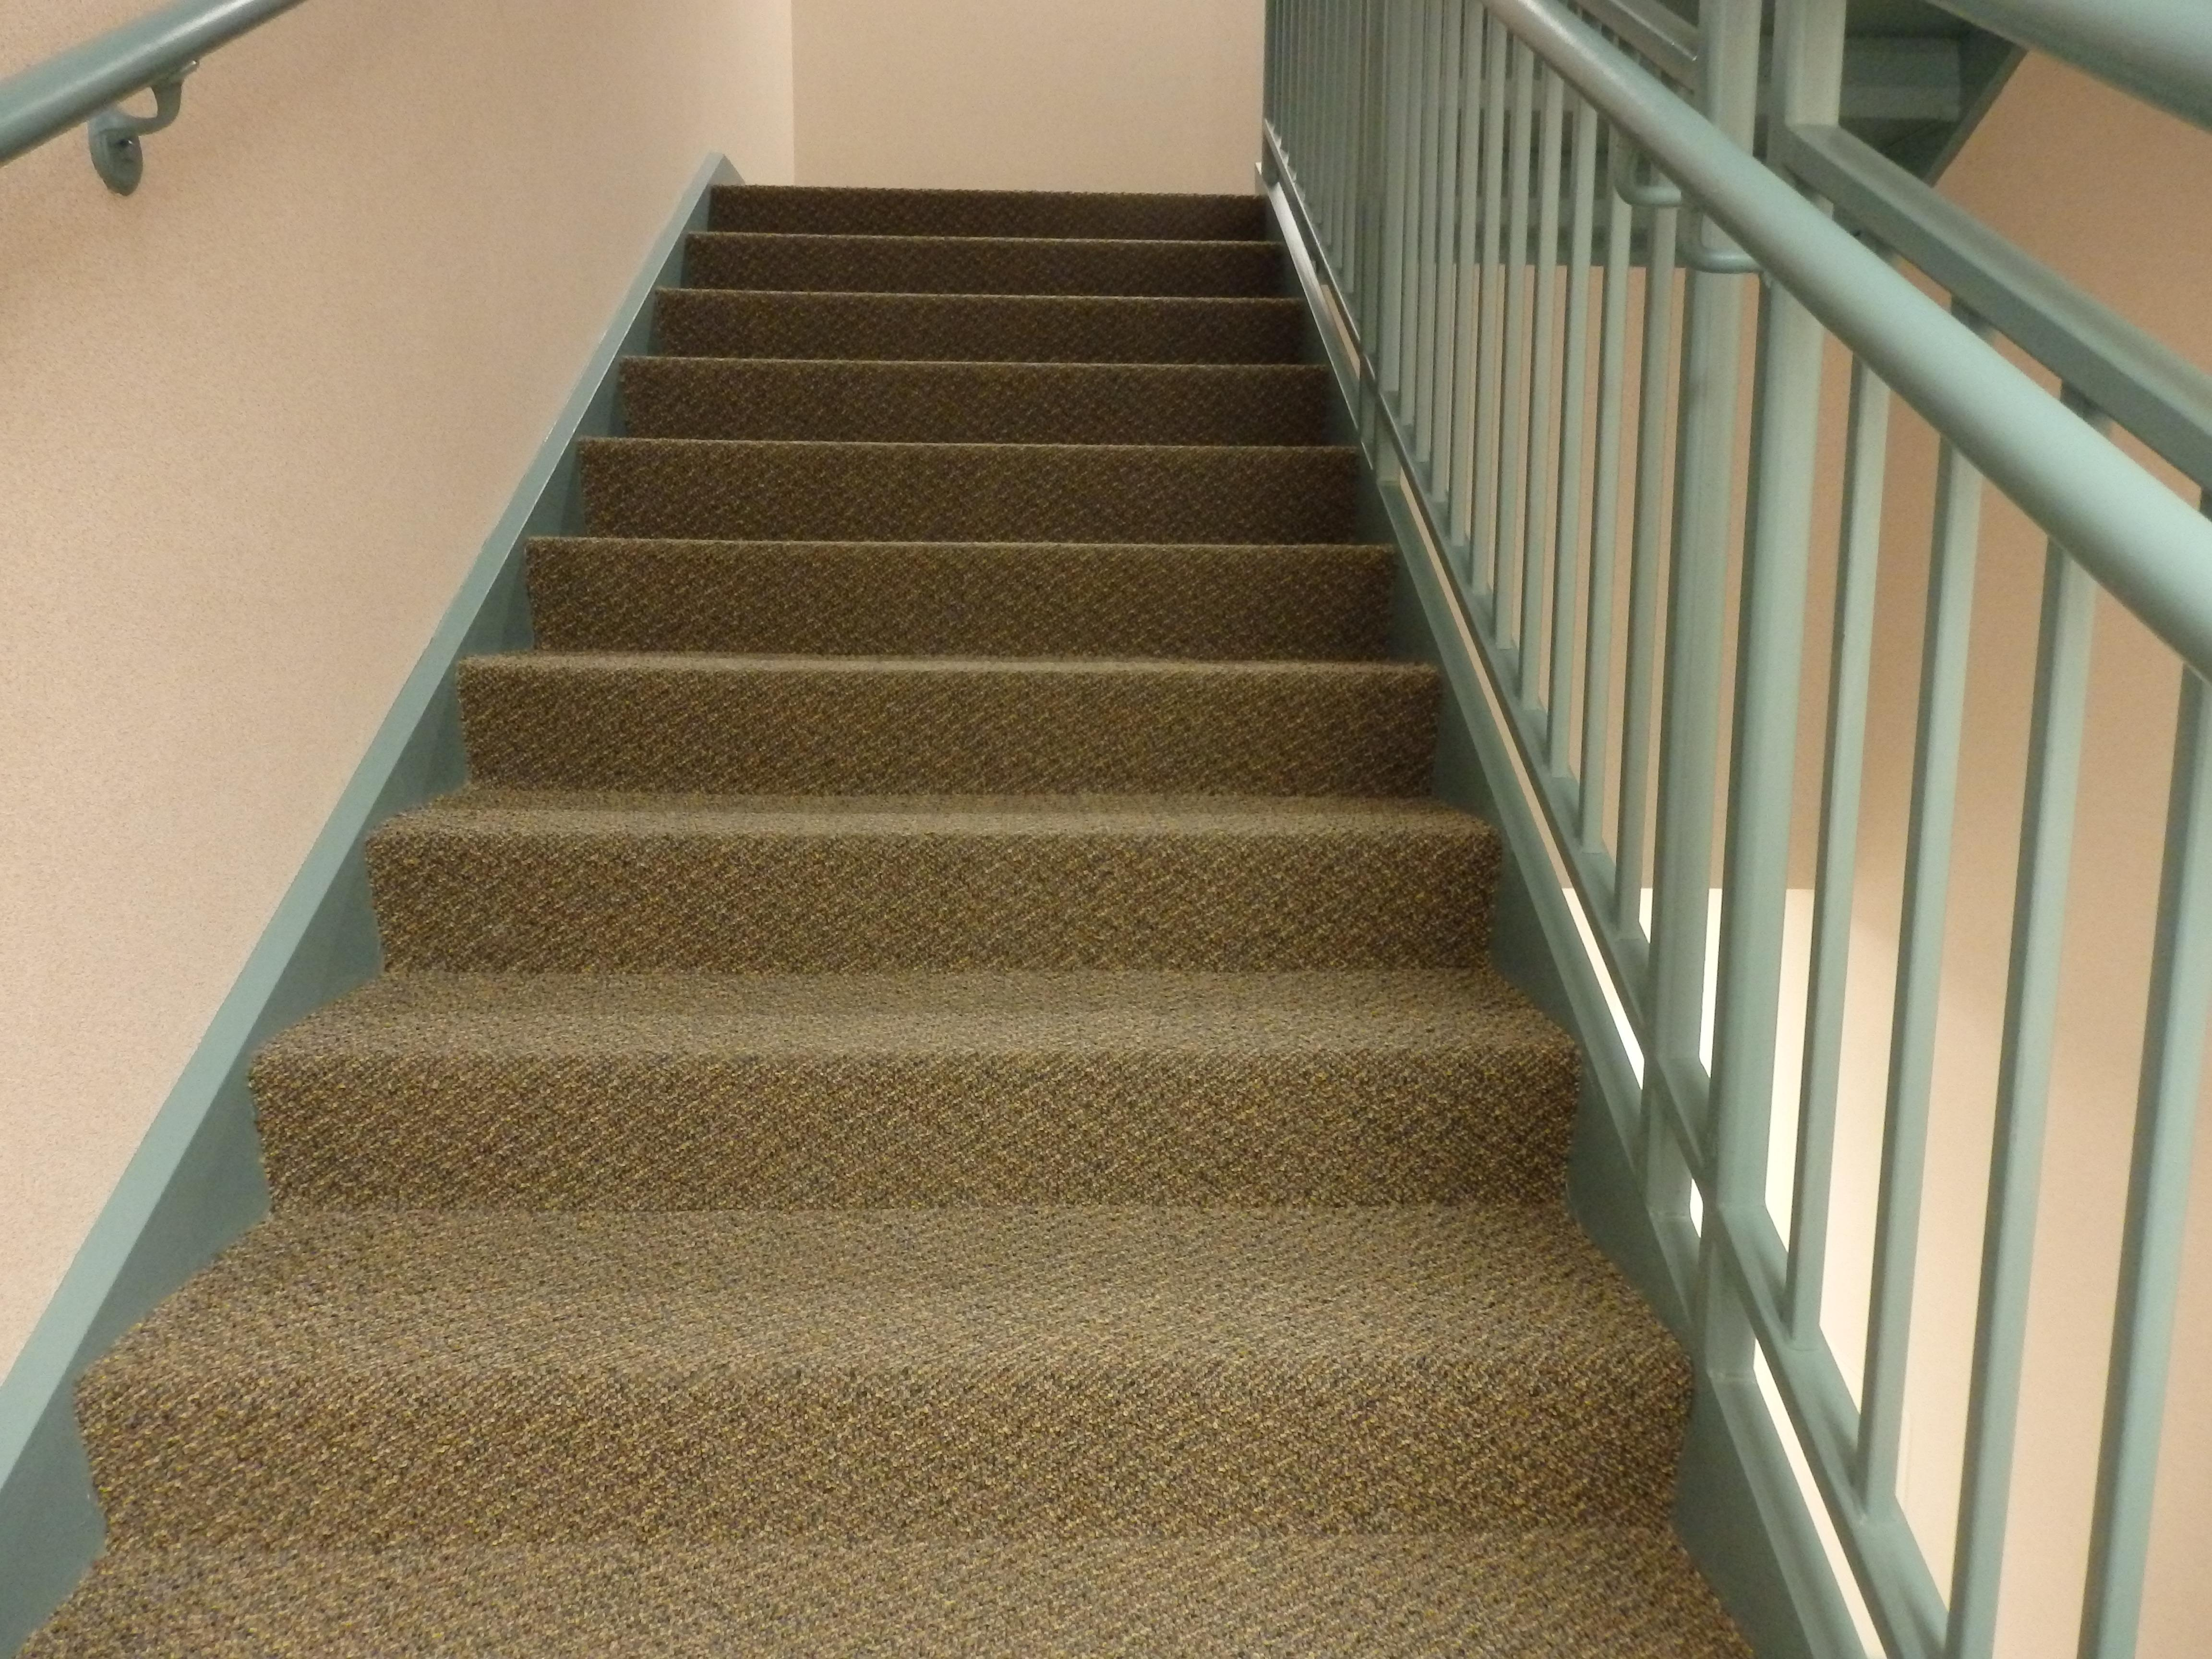stairs_up: (395, 173, 1536, 1596)
